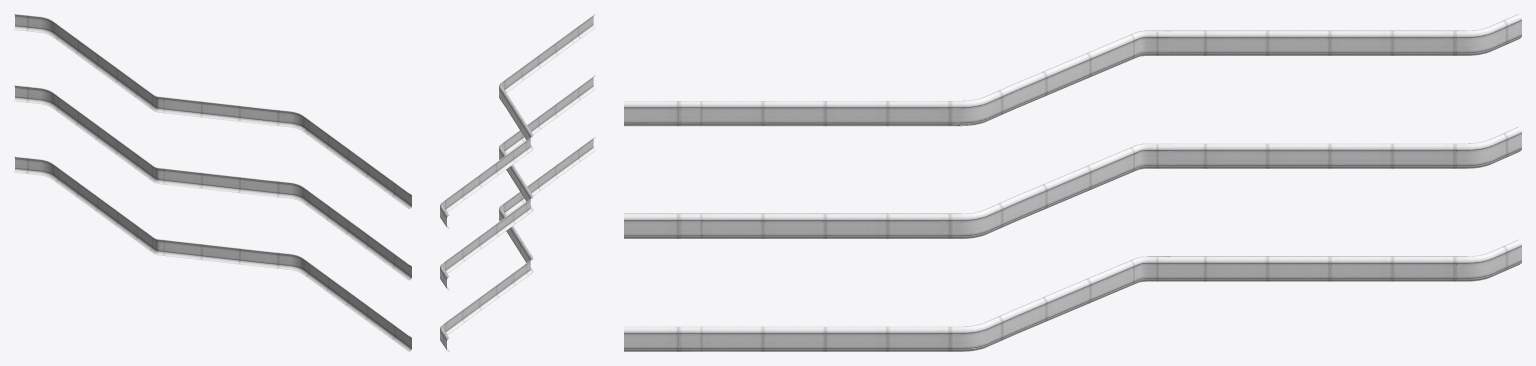
Rendered from HubFAC_Sup02.FBX.
The picture shows the model from 3 angles, left to right: view 1: azimuth 30°, elevation 25°; view 2: azimuth 150°, elevation 25°; view 3: azimuth 270°, elevation 25°; orthographic projection. The views are drawn at different scales.
Visible parts, largest first — view 1: HubFAC_Sup02; view 2: HubFAC_Sup02; view 3: HubFAC_Sup02.
Boxes of the visible parts, bbox=[...] form: HubFAC_Sup02: bbox=[14, 14, 411, 351]; HubFAC_Sup02: bbox=[440, 14, 595, 351]; HubFAC_Sup02: bbox=[624, 14, 1521, 351].
Size of the model in its own units: 10.15 by 13.3 by 43.25.
